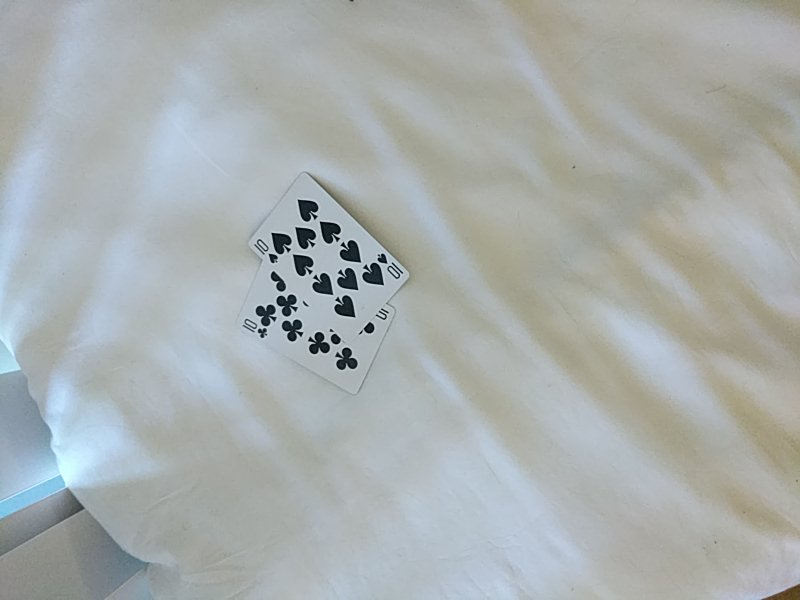Clubs: (234, 260, 397, 395)
Spades: (249, 171, 409, 341)
